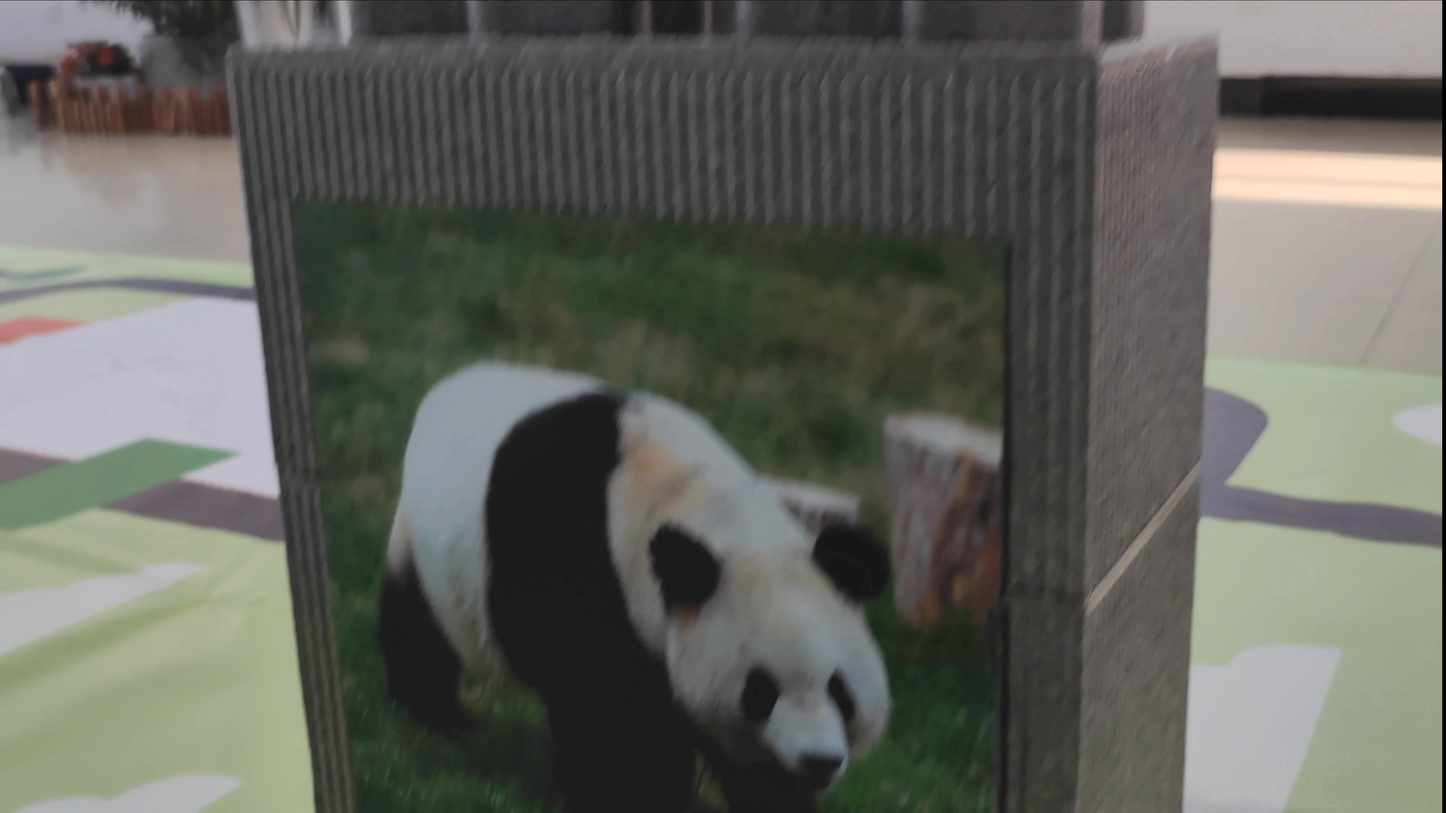panda: (340, 322, 935, 805)
